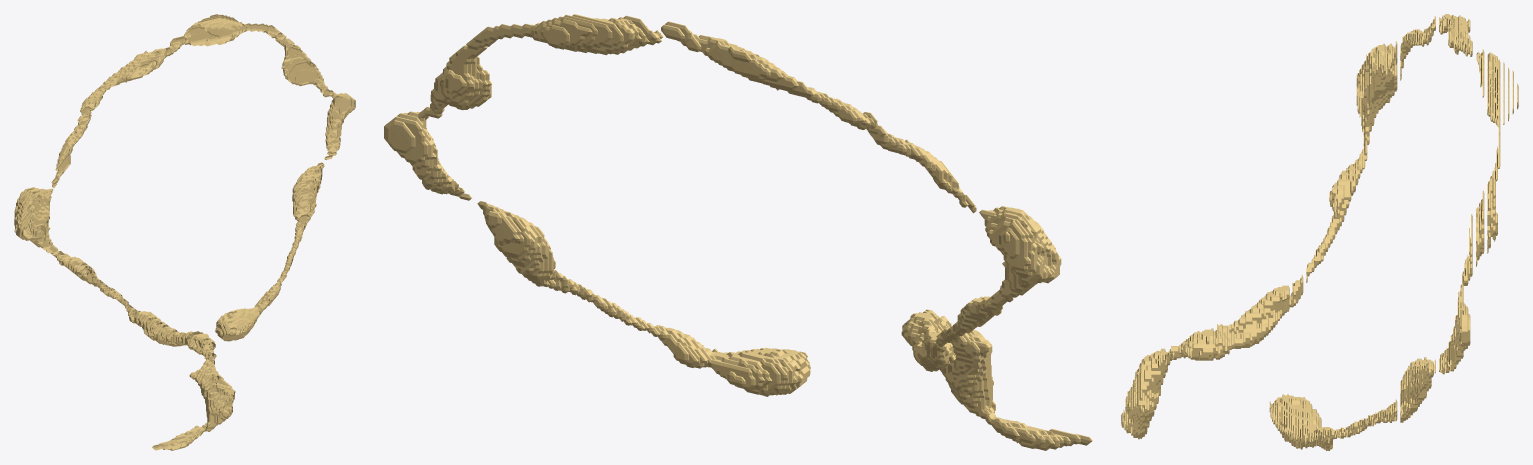
The model's file is SVV_RIML.gltf.
The picture shows the model from 3 angles, left to right: view 1: azimuth 30°, elevation 25°; view 2: azimuth 150°, elevation 25°; view 3: azimuth 270°, elevation 25°; orthographic projection. The views are drawn at different scales.
Parts seen in each view (by area): view 1: RIML; view 2: RIML; view 3: RIML.
Boxes of the visible parts, bbox=[...] form: RIML: bbox=[14, 14, 355, 450]; RIML: bbox=[384, 14, 1092, 450]; RIML: bbox=[1121, 14, 1518, 450].
Bounding box in the file's own units: 110137 × 87593 × 66610.
